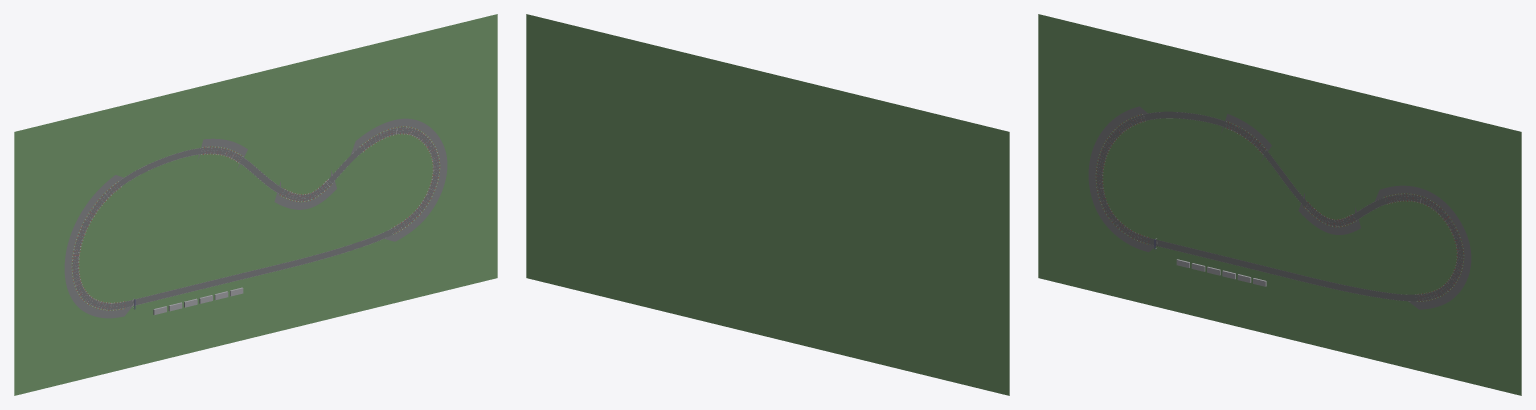
Rendered from track.glb.
3 views of the same model, side by side, from view 1: azimuth 30°, elevation 25°; view 2: azimuth 150°, elevation 25°; view 3: azimuth 330°, elevation 25° (orthographic).
Parts seen in each view (by area): view 1: part0, part581, part1, part364, part232; view 2: part0; view 3: part0, part581, part1, part364, part232.
Boxes of the visible parts, bbox=[...] form: part0: bbox=[14, 14, 497, 395]; part581: bbox=[72, 127, 439, 309]; part1: bbox=[351, 118, 447, 241]; part364: bbox=[64, 175, 132, 318]; part232: bbox=[274, 170, 336, 209]; part0: bbox=[526, 14, 1009, 395]; part0: bbox=[1038, 14, 1521, 395]; part581: bbox=[1096, 111, 1463, 301]; part1: bbox=[1375, 185, 1471, 309]; part364: bbox=[1088, 106, 1156, 252]; part232: bbox=[1298, 193, 1360, 234].
Size of the model in its own units: 949 by 495 by 7.03.
